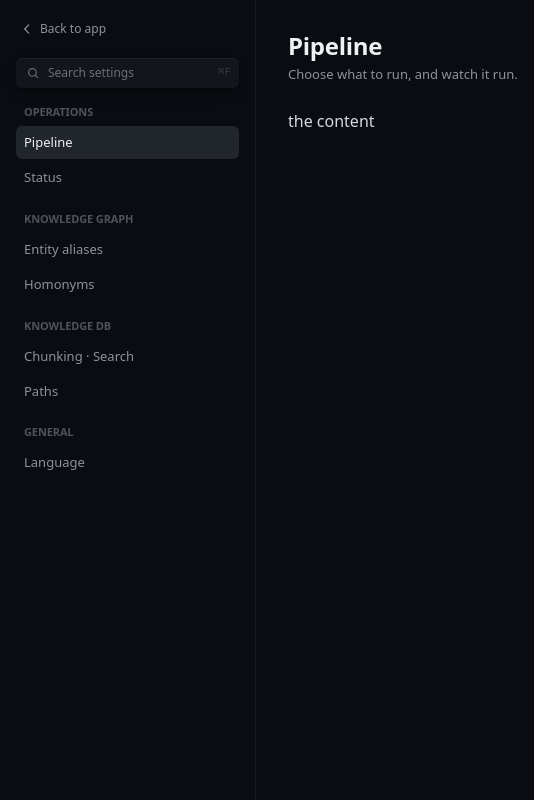
Test case: SettingsShell — the contents list › with no match it echoes the query back
Type "zzz" into the search field labelled "Search settings" at (128, 73), box x1=16 y1=58 x2=239 y2=88
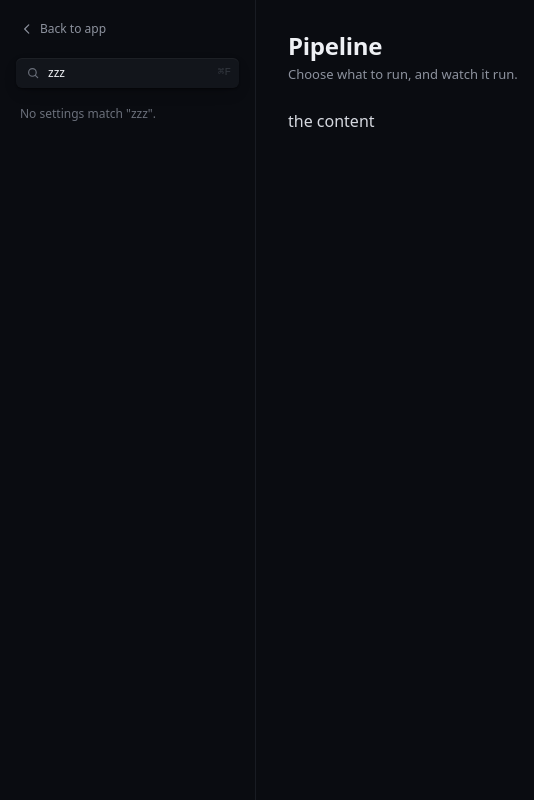
Expected: the text "No settings match \"zzz\"." is shown, x1=20 y1=105 x2=156 y2=122
